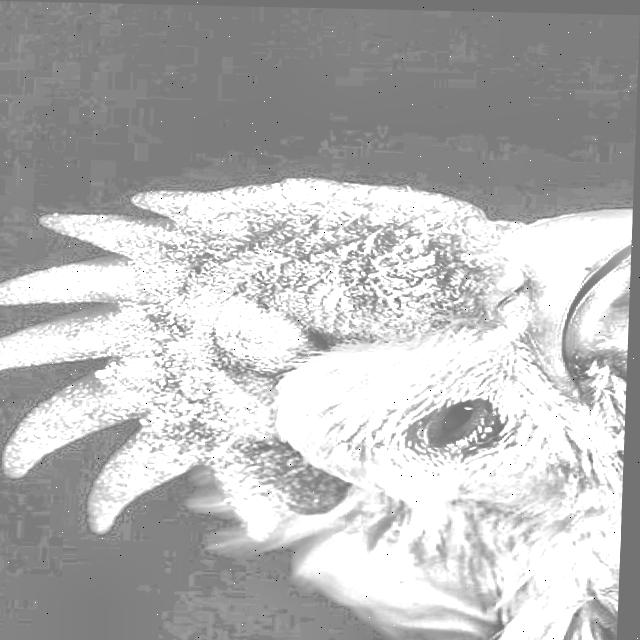Newcastle: (0, 170, 635, 640)
